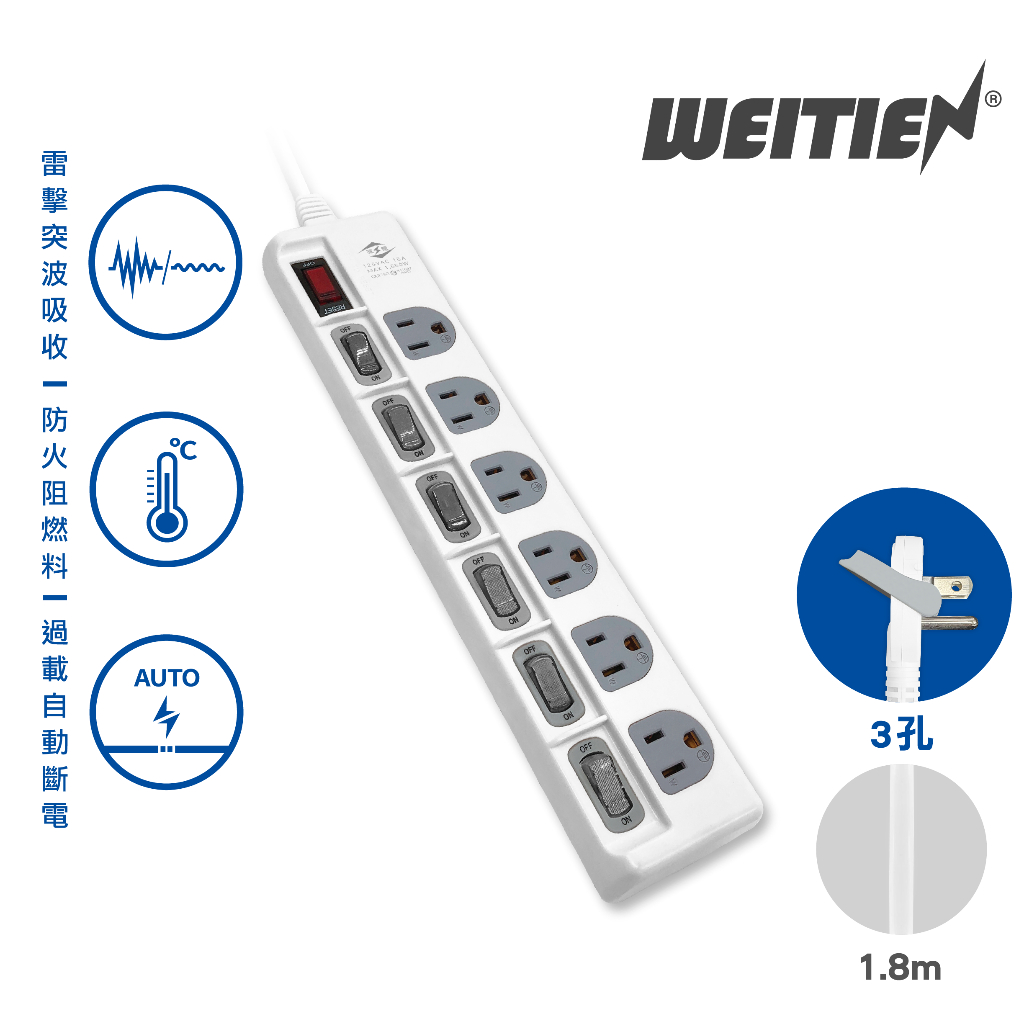socket: (260, 193, 766, 907)
